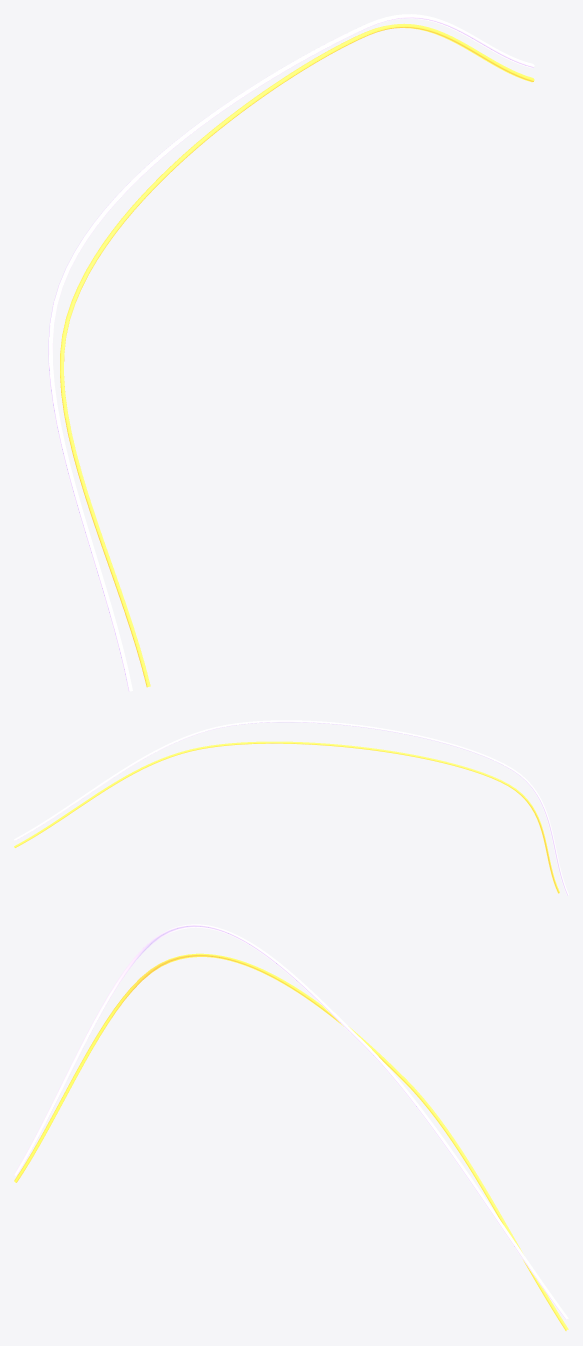
3 views of the same model, one above another, from view 1: azimuth 30°, elevation 25°; view 2: azimuth 150°, elevation 25°; view 3: azimuth 270°, elevation 25° (orthographic). The views are drawn at different scales.
Visible parts, largest first — view 1: Reply path, Command path; view 2: Command path, Reply path; view 3: Reply path, Command path.
Boxes of the visible parts, left/top/right/bottom form: Reply path: left=48, top=14, right=534, bottom=691; Command path: left=60, top=23, right=534, bottom=687; Command path: left=14, top=741, right=559, bottom=893; Reply path: left=14, top=720, right=568, bottom=895; Reply path: left=14, top=924, right=568, bottom=1319; Command path: left=14, top=953, right=568, bottom=1330.
Size of the model in its own units: 8.57 by 4.3 by 6.84.
